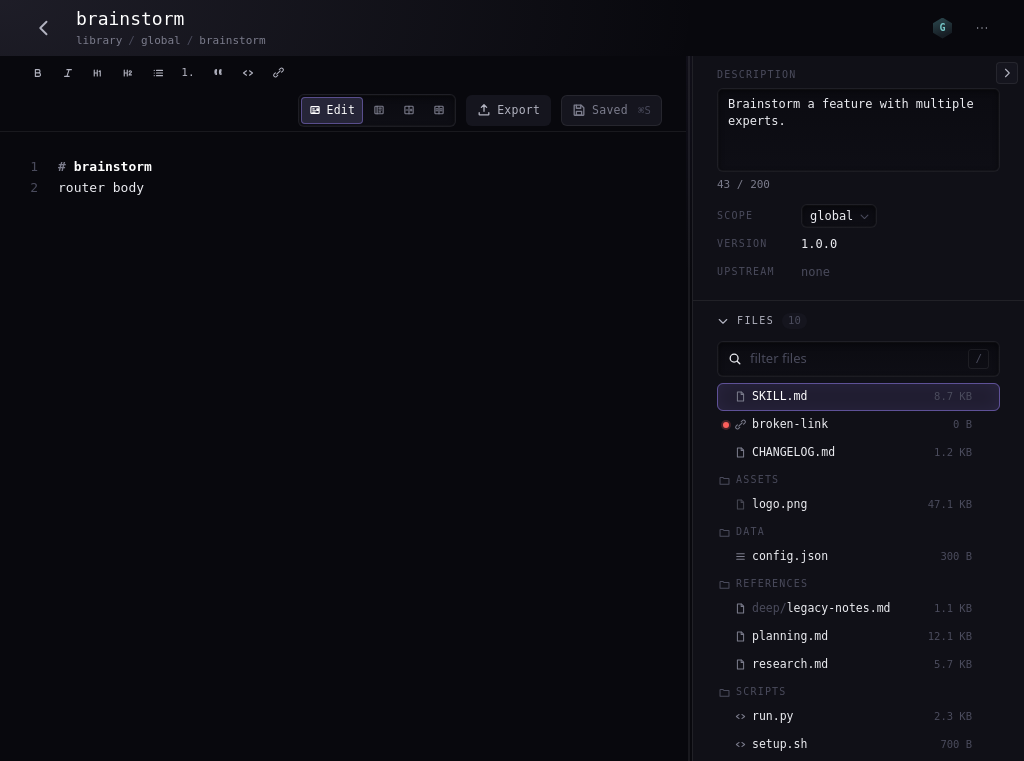
FILES navigator › [13][30] selecting a row swaps the editor body and the footer path
What coordinates should you click on to do the following:
click the option with test id "skill-file-row" showing "planning.md 12.1 KB"
I would click on:
 (846, 637)
Its box is [717, 623, 976, 651].
(page scrolled)
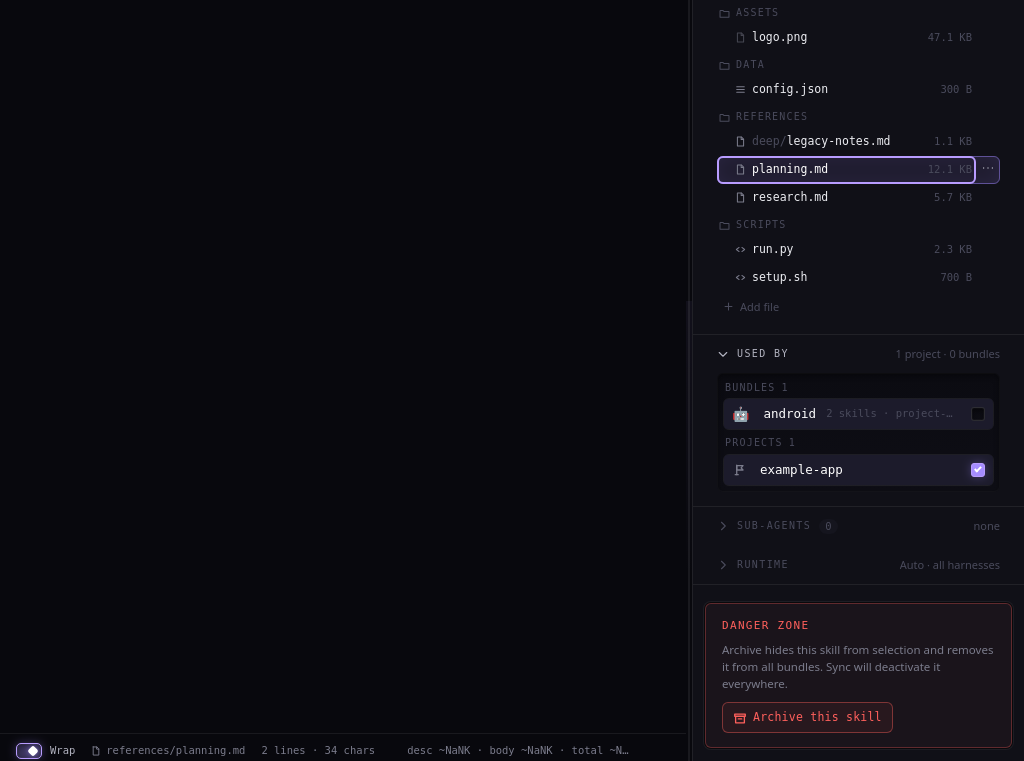
Now the element with test id "editor-active-path" reads "references/planning.md", box [106, 744, 245, 756]
